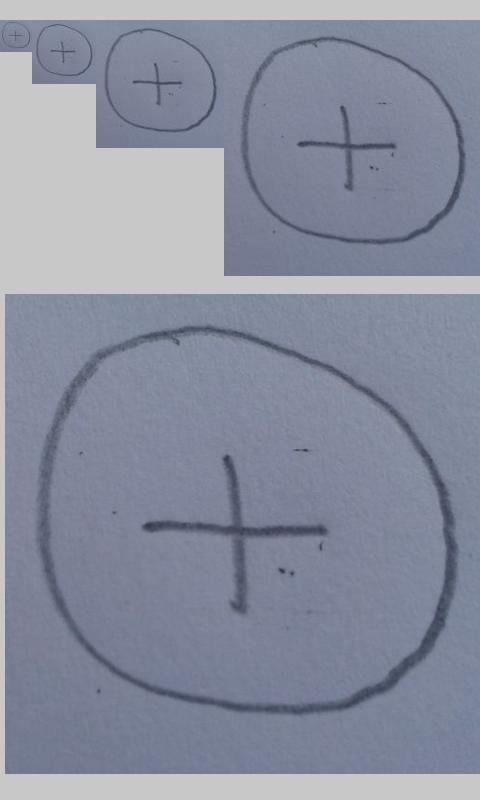button: (38, 324, 461, 716), (240, 36, 466, 246), (104, 27, 217, 133), (36, 24, 93, 77), (2, 22, 31, 49)
